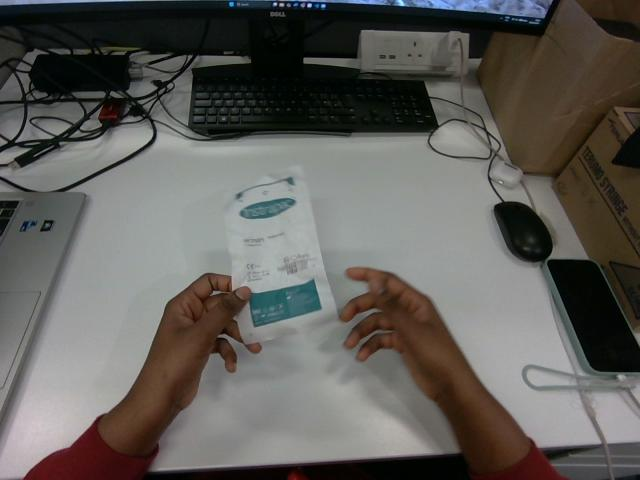gallipot: (225, 166, 337, 343)
